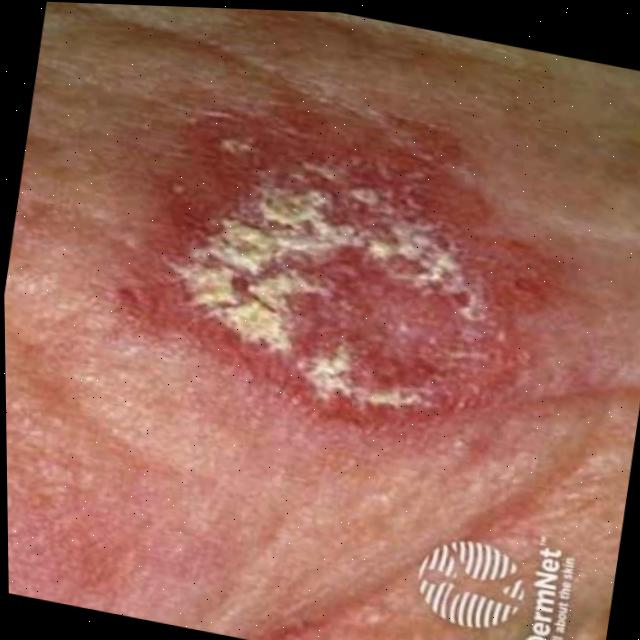Eczema: (162, 126, 500, 448)
